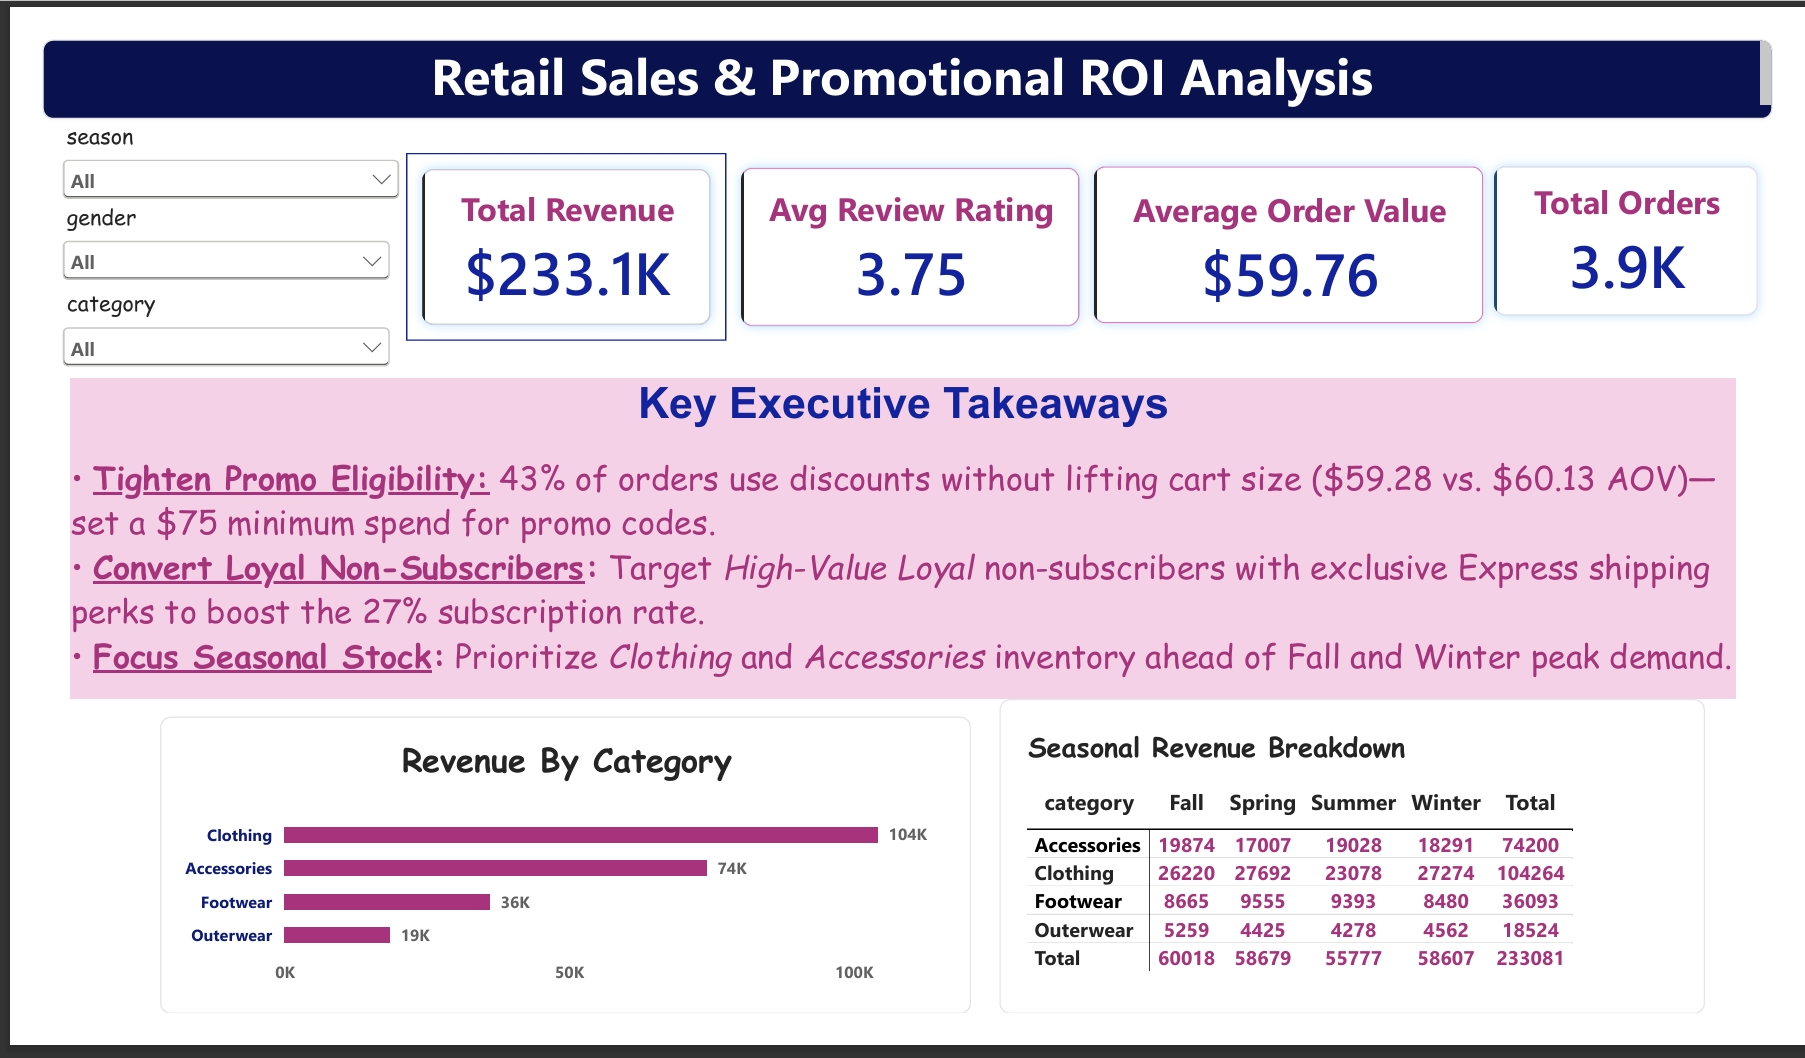

The dashboard page shown, as its layout file describes it:
{"tool":"powerbi","page":{"name":"Executive Overview","canvas":[1280,720],"ordinal":0},"visuals":[{"type":"textbox","box":[0,0,1280.4,58.9],"z":0},{"type":"cardVisual","fields":{"Data":["shopping_trends customer.Total Revenue"]},"box":[268.8,84.3,237,138.4],"z":1000},{"type":"cardVisual","fields":{"Data":["shopping_trends customer.Total Orders"]},"box":[1062.5,82.7,217.9,132],"z":2000},{"type":"cardVisual","fields":{"Data":["shopping_trends customer.Average Order Value"]},"box":[766.7,82.7,310.2,138.4],"z":3000},{"type":"cardVisual","fields":{"Data":["shopping_trends customer.Avg Review Rating"]},"box":[505.8,84.3,272,138.4],"z":4000},{"type":"slicer","fields":{"Values":["shopping_trends customer.season"]},"box":[9.5,58.9,259.3,77.9],"z":5000},{"type":"slicer","fields":{"Values":["shopping_trends customer.gender"]},"box":[9.5,119.3,252.9,63.6],"z":6000},{"type":"slicer","fields":{"Values":["shopping_trends customer.category"]},"box":[9.5,182.9,252.9,79.5],"z":7000},{"type":"clusteredBarChart","title":"Revenue By Category","fields":{"Category":["shopping_trends customer.category"],"Y":["shopping_trends customer.Total Revenue"]},"box":[87.5,501,599.7,219.5],"z":8000},{"type":"pivotTable","title":"Seasonal Revenue Breakdown","fields":{"Columns":["shopping_trends customer.season"],"Rows":["shopping_trends customer.category"],"Values":["shopping_trends customer.Total Revenue"]},"box":[707.8,488.3,521.7,232.2],"z":9000},{"type":"textbox","box":[20.7,251.3,1232.7,237],"z":11000}]}

Visuals, with their boxes on the page's 1280x720 design canvas (x1, y1, x2, y2). These are canvas units, not pixel positions in the 1805x1058 screenshot, which may show the page scaled, cropped or inside an application window:
textbox: 0 0 1280 59
cardVisual - shopping_trends customer.Total Revenue: 269 84 506 223
cardVisual - shopping_trends customer.Total Orders: 1062 83 1280 215
cardVisual - shopping_trends customer.Average Order Value: 767 83 1077 221
cardVisual - shopping_trends customer.Avg Review Rating: 506 84 778 223
slicer - shopping_trends customer.season: 10 59 269 137
slicer - shopping_trends customer.gender: 10 119 262 183
slicer - shopping_trends customer.category: 10 183 262 262
"Revenue By Category" clusteredBarChart: 88 501 687 720
"Seasonal Revenue Breakdown" pivotTable: 708 488 1230 720
textbox: 21 251 1253 488
